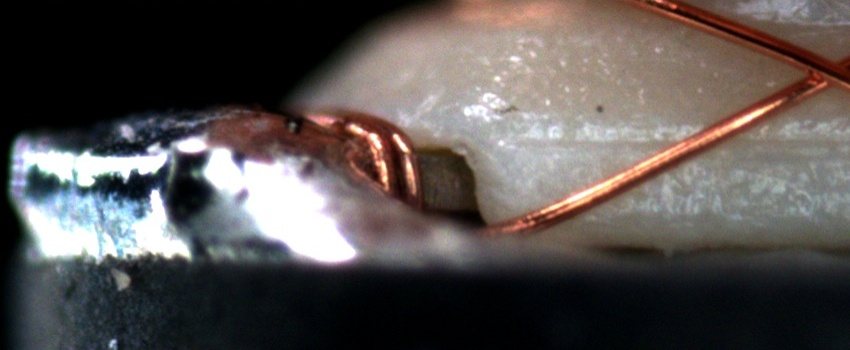CL: (780, 43, 847, 99)
DL: (527, 109, 850, 174)
TE: (301, 97, 434, 222)
